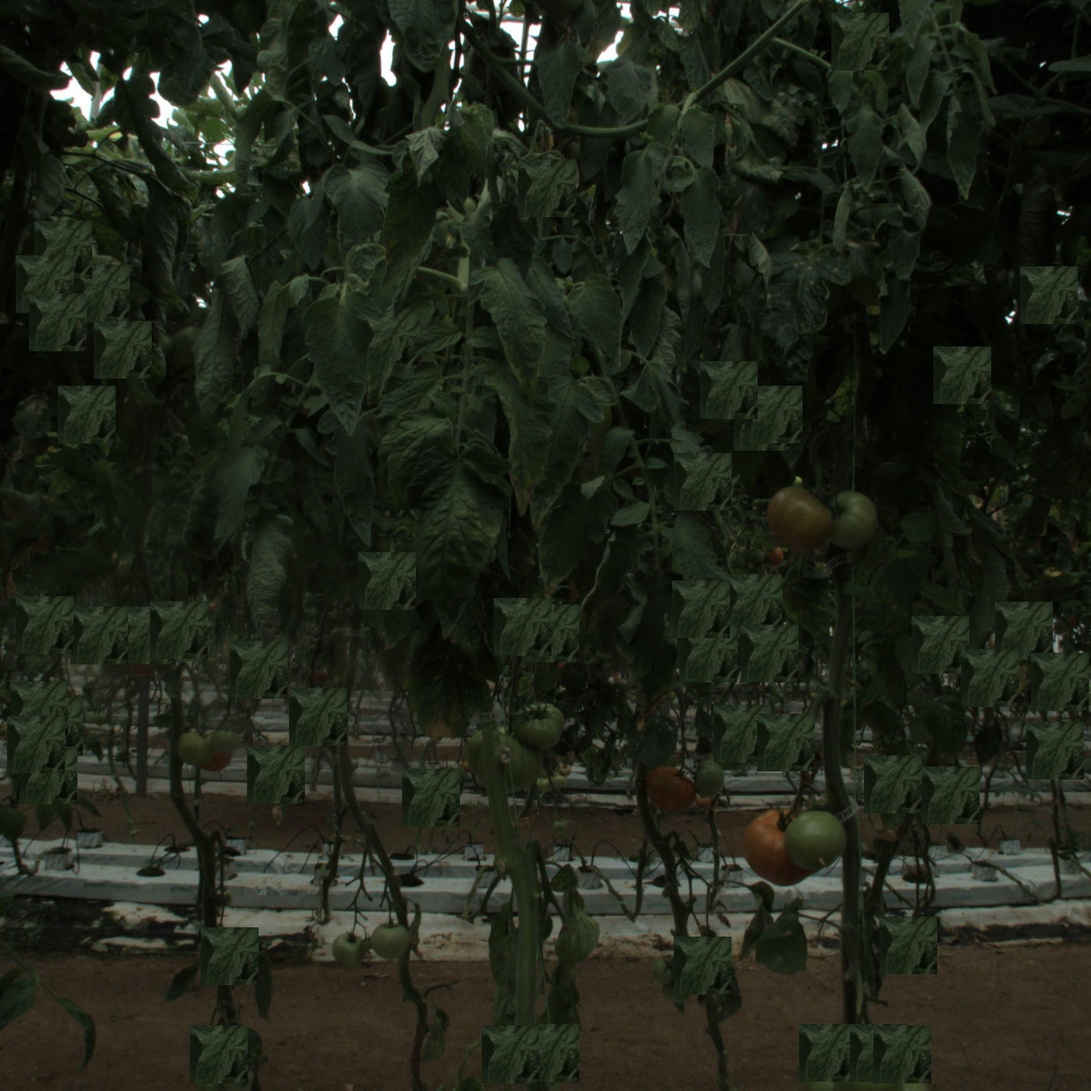['unripe', 'semi-ripe', 'fully-ripe']: (469, 721, 545, 798), (792, 813, 847, 868), (825, 492, 879, 547), (181, 718, 235, 772), (329, 926, 374, 971), (369, 916, 414, 961), (521, 704, 566, 748)
